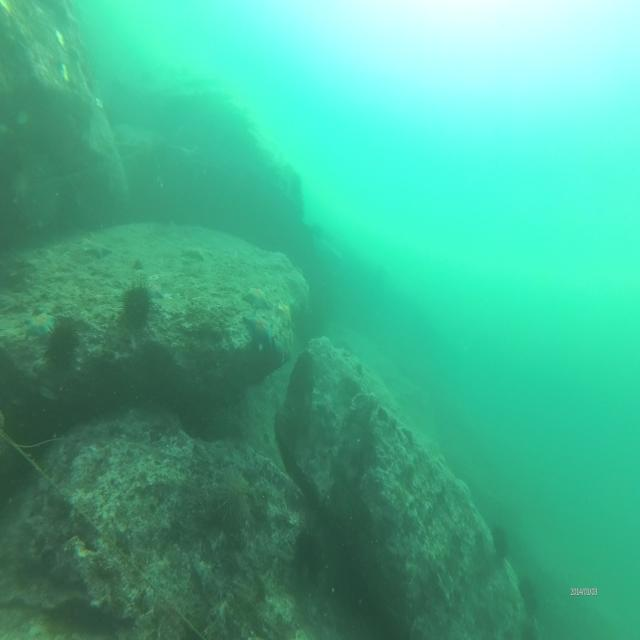echinus: (215, 470, 255, 538), (122, 282, 152, 333), (46, 320, 76, 370), (491, 526, 509, 562)
starfish: (246, 308, 282, 355), (27, 310, 53, 344), (242, 284, 271, 313), (275, 297, 294, 329)
